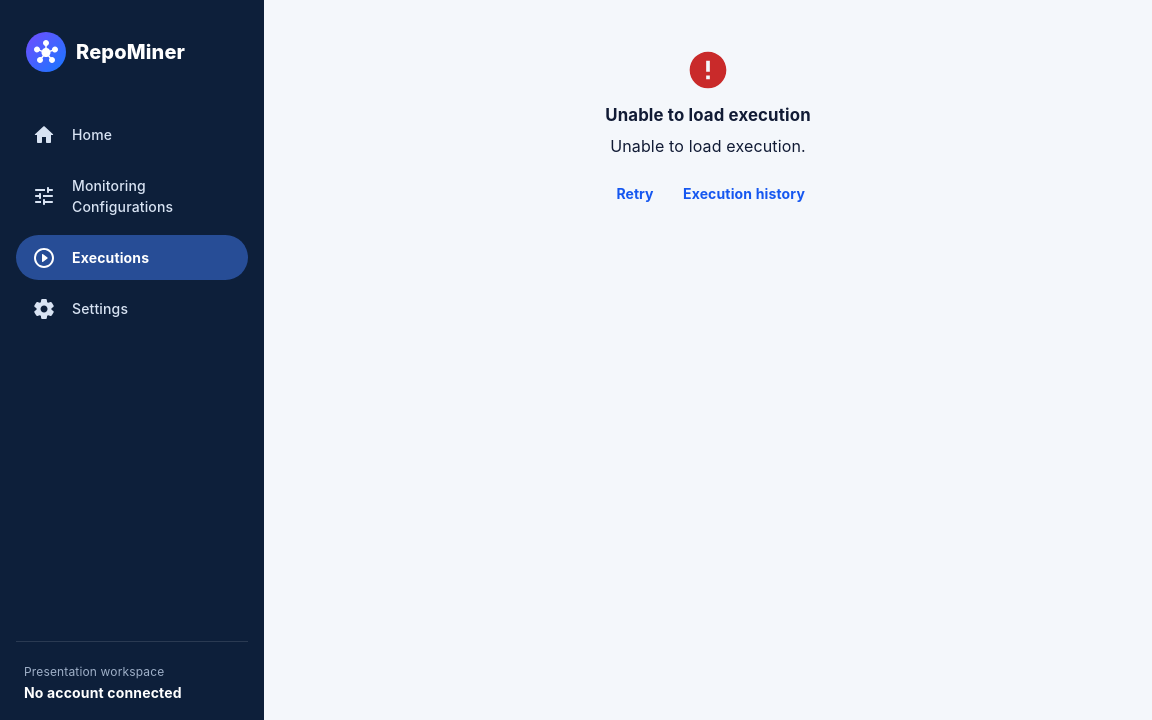
Test: shows retry after normalized API failure
Expected: the text "Unable to load execution." is shown, [603, 134, 813, 158]
Click the button "Retry".
click(635, 195)  # box [603, 174, 667, 216]
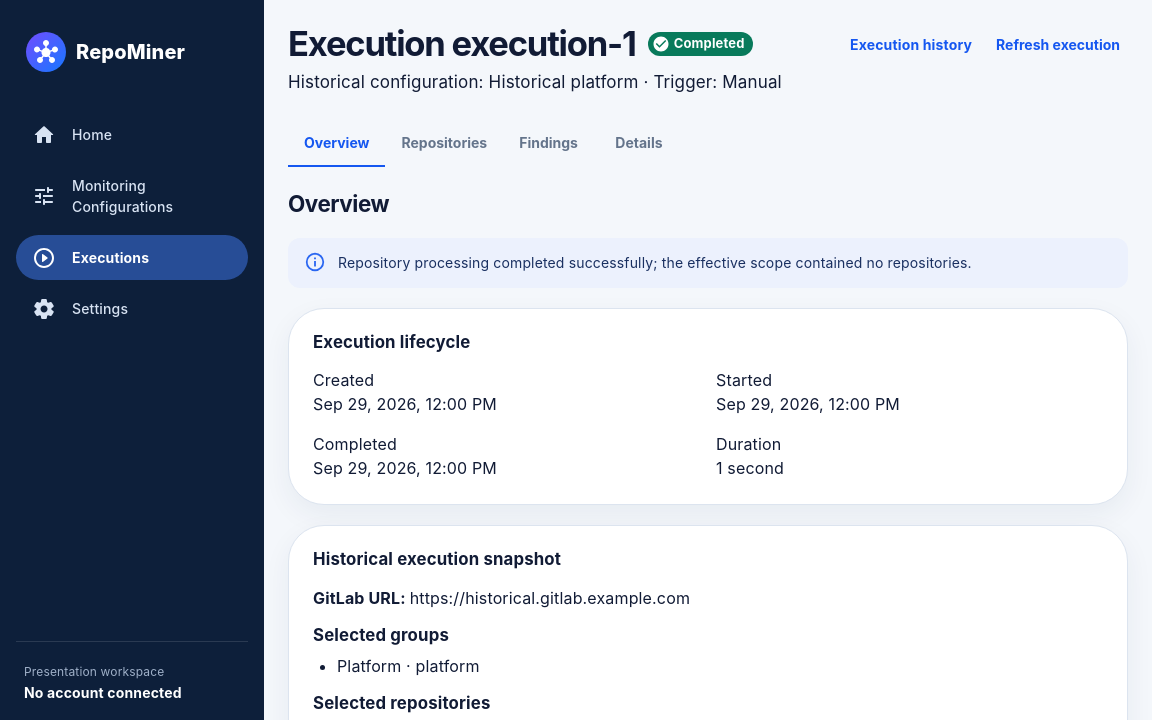
Now the heading "Execution execution-1" is shown, box [288, 24, 636, 64]
